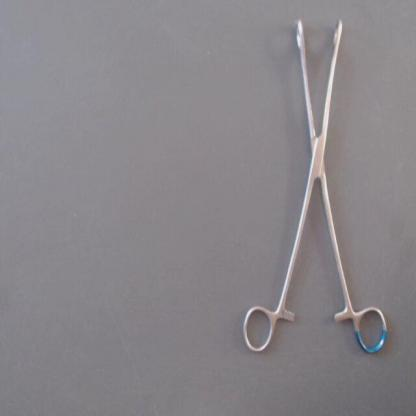Sponge Forceps: (237, 5, 396, 364)
